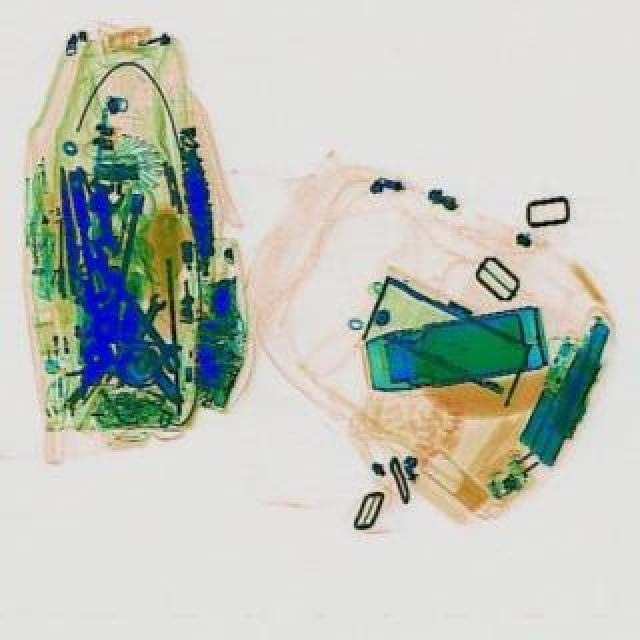scissors: (78, 240, 190, 374), (112, 290, 168, 360)
